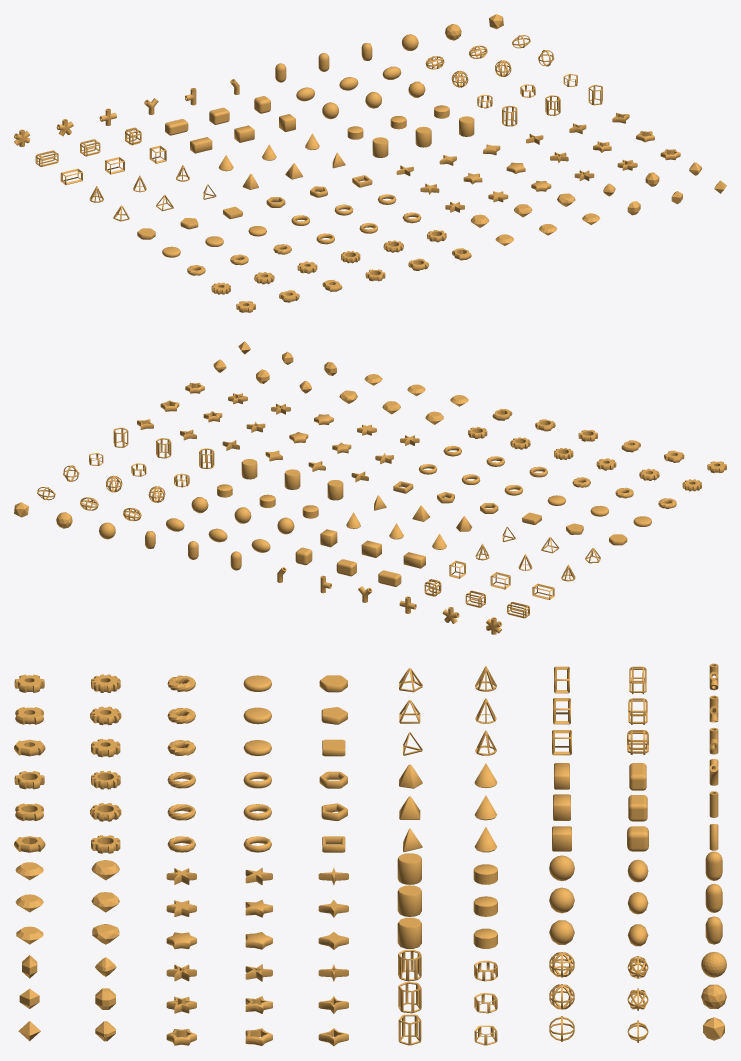
File: Shapes skfb.fbx
3 renders of one model, top to bottom at view 1: azimuth 30°, elevation 25°; view 2: azimuth 150°, elevation 25°; view 3: azimuth 270°, elevation 25°, orthographic. The views are drawn at different scales.
Parts seen in each view (by area): view 1: no part large enough to name; view 2: no part large enough to name; view 3: Cylinder_01, Cylinder_02, Cylinder_03, CylinderMesh_01.
Boxes of the visible parts, x1,y1,x2,y2 form: Cylinder_01: (397, 853, 421, 884); Cylinder_02: (397, 885, 421, 916); Cylinder_03: (397, 917, 421, 948); CylinderMesh_01: (398, 949, 421, 981).
Size of the model in its own units: 11423 by 426 by 9376.
